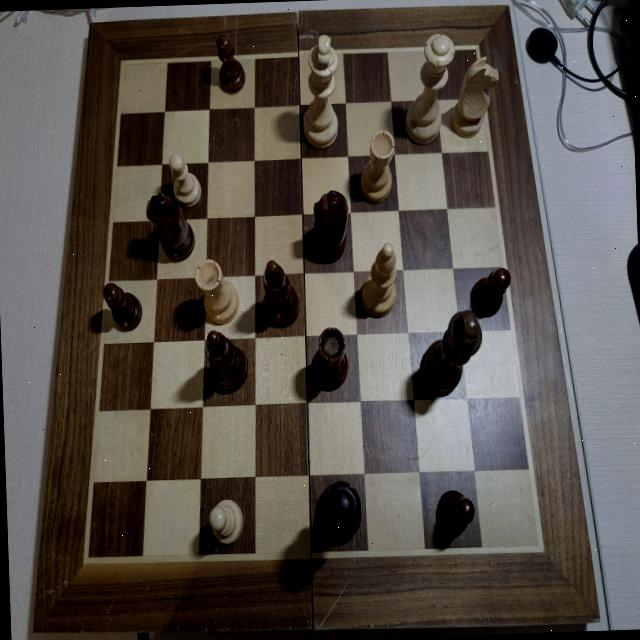black_bishop: (204, 328, 250, 394), (260, 258, 300, 328)
black_king: (418, 308, 482, 394)
black_knight: (144, 184, 198, 262), (311, 189, 349, 260)
black_pawn: (468, 266, 512, 316), (102, 280, 144, 332), (435, 488, 476, 538), (214, 30, 246, 93)
black_queen: (317, 478, 363, 544)
black_rook: (312, 326, 349, 391)
white_bishop: (358, 243, 398, 318)
white_king: (299, 30, 342, 149)
white_knight: (449, 54, 501, 138)
white_pawn: (167, 149, 201, 207), (208, 498, 245, 548)
white_queen: (400, 32, 458, 146)
white_rook: (358, 128, 397, 203), (196, 258, 239, 326)
